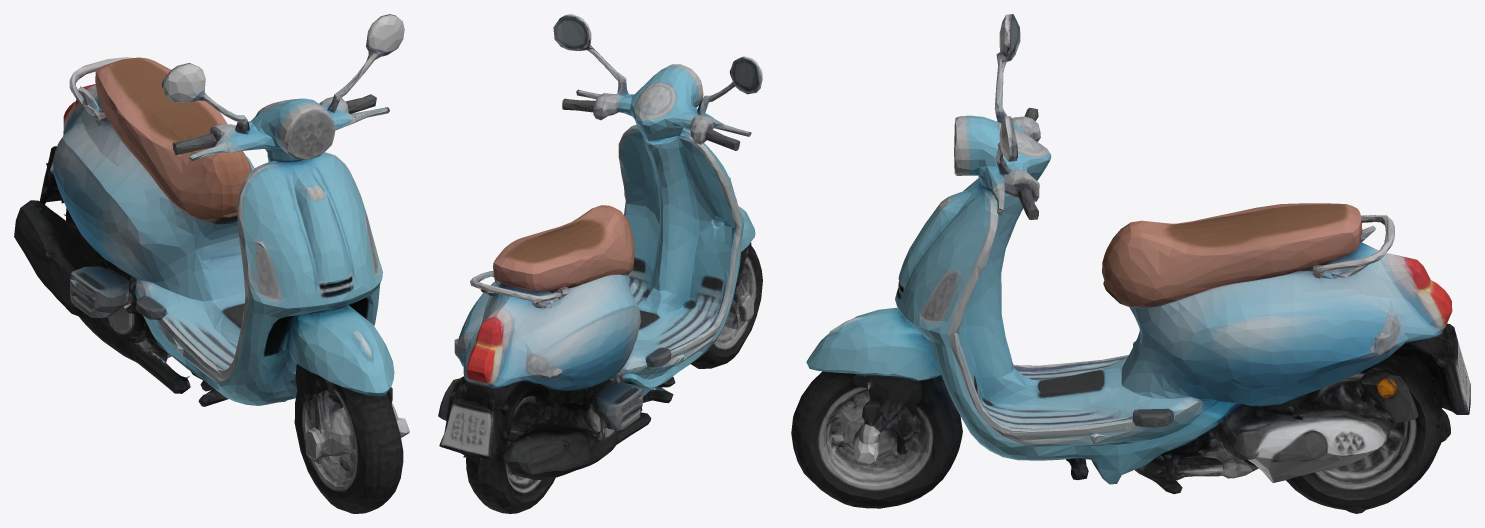
File: VXL 170.glb
The picture shows the model from 3 angles, left to right: view 1: azimuth 30°, elevation 25°; view 2: azimuth 150°, elevation 25°; view 3: azimuth 270°, elevation 25°; orthographic projection. The views are drawn at different scales.
Visible parts, largest first — view 1: world; view 2: world; view 3: world.
Part boxes in pixels (bbox=[...]): world: bbox=[14, 14, 409, 513]; world: bbox=[438, 14, 762, 513]; world: bbox=[791, 14, 1470, 513].
Bounding box in the file's own units: 0.4239 × 0.7136 × 1.
1 material, 1 textured.
